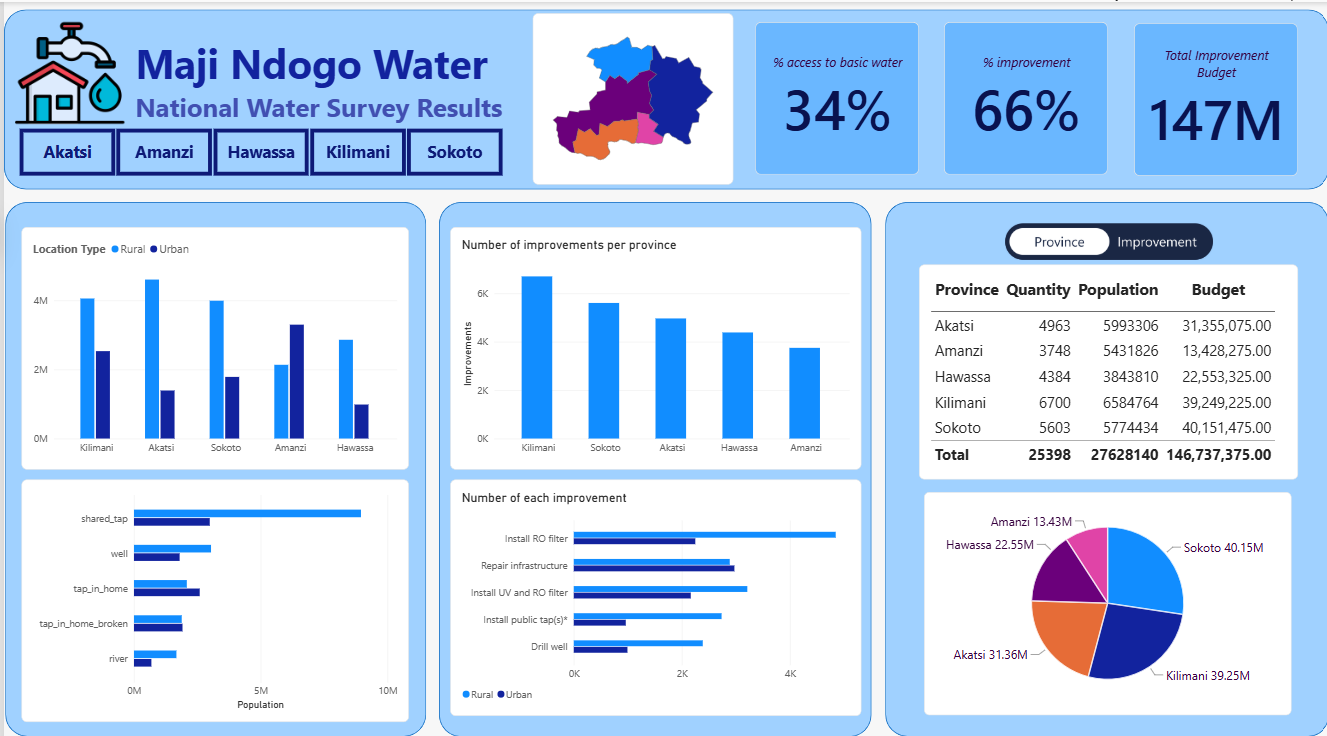

What the dashboard file says about the page in this screenshot:
{"tool":"powerbi","page":{"name":"Improvements","canvas":[1920,1080],"ordinal":4},"visuals":[{"type":"shape","box":[0,10.4,1920.1,260.6],"z":0},{"type":"shape","box":[2.1,290.2,609.3,773.9],"z":1000},{"type":"shape","box":[629.8,289.5,626.1,774.5],"z":2000},{"type":"shape","box":[1276.2,290.2,644.3,773.9],"z":3000},{"type":"image","box":[0,23,189.9,158.6],"z":4000},{"type":"textbox","box":[189.9,48,551,169],"z":5000},{"type":"slicer","fields":{"Values":["location.province_name"]},"box":[2.1,181.6,738.9,72],"z":6000},{"type":"clusteredColumnChart","title":"Number of improvements per province","fields":{"Category":["location.province_name"],"Y":["CountNonNull(project_progress.improvement)"]},"box":[646,325.7,595.4,351.1],"z":7000},{"type":"clusteredBarChart","title":"Number of each improvement","fields":{"Category":["project_progress.aggregated_improvements"],"Series":["location.location_type"],"Y":["CountNonNull(project_progress.aggregated_improvements)"]},"box":[646,691.3,595.4,342],"z":8000},{"type":"tableEx","fields":{"Values":["location.province_name","project_progress.aggregated_improvements","water_source.number_of_people_served","Sum(project_progress.Budgeted_improvement_cost)"]},"box":[1325.2,379.8,548.9,311],"z":9000},{"type":"pieChart","fields":{"Category":["location.province_name"],"Y":["Sum(project_progress.Budgeted_improvement_cost)"]},"box":[1331.5,709.6,532.2,323.5],"z":10000},{"type":"image","box":[1449.2,196.7,300,300],"z":11000},{"type":"image","box":[1449.5,182.8,300.4,327.5],"z":12000},{"type":"cardVisual","fields":{"Data":["water_source.Basic_water_access_pct"]},"box":[1087.3,29.2,237.9,221.2],"z":13000},{"type":"cardVisual","fields":{"Data":["Sum(project_progress.Budgeted_improvement_cost)"]},"box":[1636.2,31.3,237.9,221.2],"z":14000},{"type":"cardVisual","fields":{"Data":["water_source.Improvement_pct"]},"box":[1360.7,29.2,237.9,221.2],"z":15000},{"type":"shapeMap","fields":{"Category":["location.province_name"],"Series":["location.province_name"]},"box":[765.4,17.1,290.8,248],"z":16000},{"type":"clusteredColumnChart","fields":{"Category":["location.province_name"],"Series":["location.location_type"],"Y":["Sum(water_source.number_of_people_served)"]},"box":[25.3,325.7,561,351.1],"z":17000},{"type":"clusteredBarChart","fields":{"Category":["water_source.source_type"],"Series":["location.location_type"],"Y":["Sum(water_source.number_of_people_served)"]},"box":[25.3,691.3,561,351.1],"z":18000}]}

Visuals, with their boxes in screenshot pixels (x1, y1, x2, y2), scaled from the page's 1920x1080 canvas onto the 1327x736 screenshot:
shape: locate(0, 7, 1326, 185)
shape: locate(1, 198, 423, 725)
shape: locate(435, 197, 868, 725)
shape: locate(882, 198, 1326, 725)
image: locate(0, 16, 131, 124)
textbox: locate(131, 33, 512, 148)
slicer - location.province_name: locate(1, 124, 512, 173)
"Number of improvements per province" clusteredColumnChart: locate(446, 222, 858, 461)
"Number of each improvement" clusteredBarChart: locate(446, 471, 858, 704)
tableEx - location.province_name x project_progress.aggregated_improvements: locate(916, 259, 1295, 471)
pieChart - location.province_name x Sum(project_progress.Budgeted_improvement_cost): locate(920, 484, 1288, 704)
image: locate(1002, 134, 1209, 338)
image: locate(1002, 125, 1209, 348)
cardVisual - water_source.Basic_water_access_pct: locate(751, 20, 916, 171)
cardVisual - Sum(project_progress.Budgeted_improvement_cost): locate(1131, 21, 1295, 172)
cardVisual - water_source.Improvement_pct: locate(940, 20, 1105, 171)
shapeMap - location.province_name x location.province_name: locate(529, 12, 730, 181)
clusteredColumnChart - location.province_name x location.location_type: locate(17, 222, 405, 461)
clusteredBarChart - water_source.source_type x location.location_type: locate(17, 471, 405, 710)
